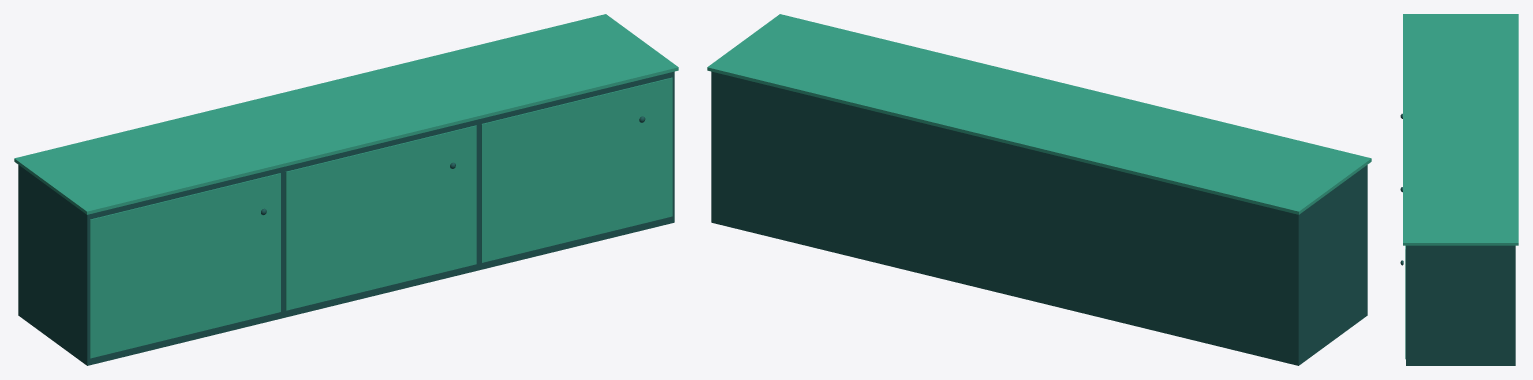
Rendered from Mueble_Salón.fbx.
The picture shows the model from 3 angles, left to right: view 1: azimuth 30°, elevation 25°; view 2: azimuth 150°, elevation 25°; view 3: azimuth 270°, elevation 25°; orthographic projection. The views are drawn at different scales.
Visible parts, largest first — view 1: MuebleSalon; view 2: MuebleSalon; view 3: MuebleSalon.
Boxes of the visible parts, x1,y1,x2,y2 form: MuebleSalon: (14, 14, 678, 365); MuebleSalon: (707, 14, 1371, 365); MuebleSalon: (1400, 14, 1518, 365).
Size of the model in its own units: 296 by 74.7 by 64.52.
